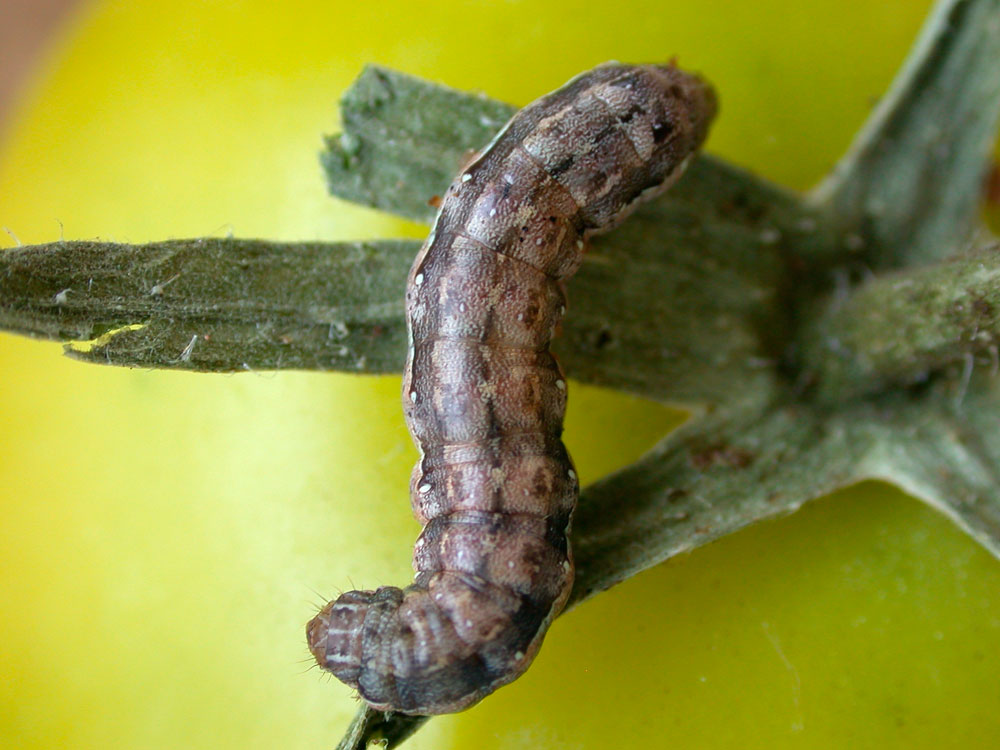Armyworm: (300, 30, 716, 730)
